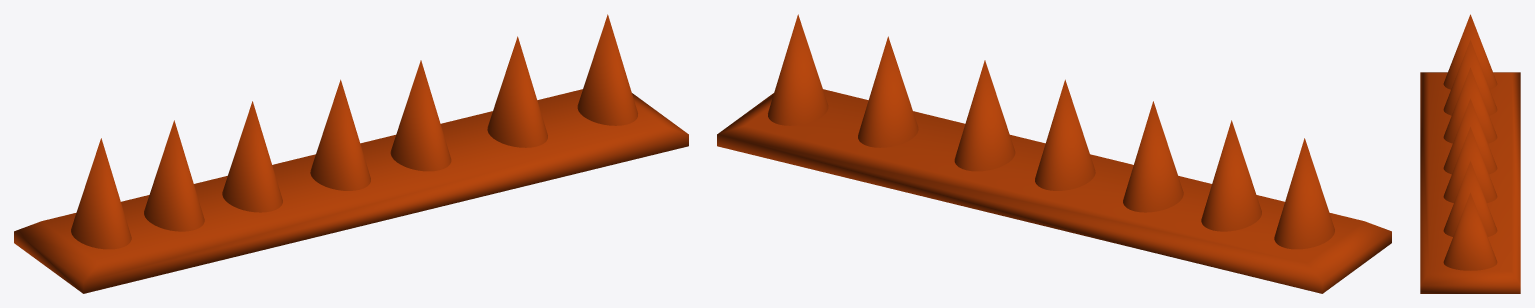
The model's file is spikes.fbx.
3 renders of one model, left to right at view 1: azimuth 30°, elevation 25°; view 2: azimuth 150°, elevation 25°; view 3: azimuth 270°, elevation 25°, orthographic. The views are drawn at different scales.
Parts seen in each view (by area): view 1: Cone.004; view 2: Cone.004; view 3: Cone.004.
Boxes of the visible parts, <box> form: Cone.004: <box>14,14,688,293</box>; Cone.004: <box>717,14,1391,293</box>; Cone.004: <box>1420,14,1520,293</box>.
Size of the model in its own units: 1007 by 188 by 200.
